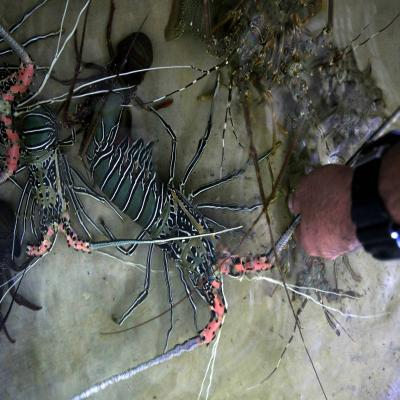lobster: (112, 138, 228, 301), (21, 106, 84, 254)
